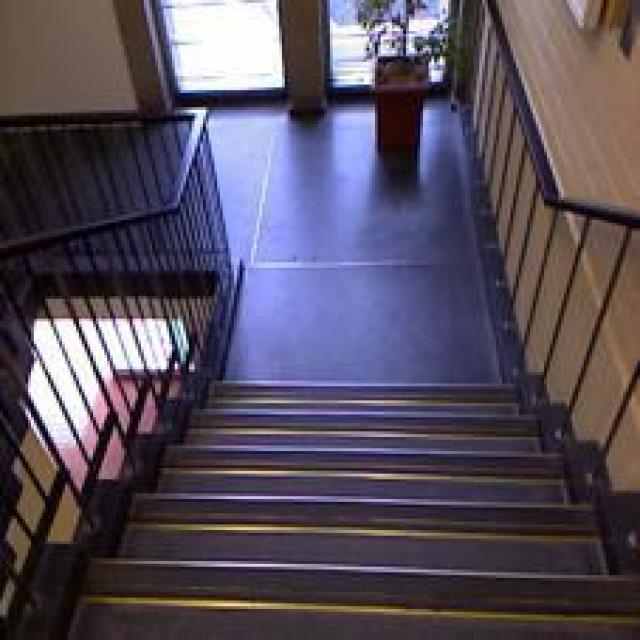downstair: (106, 475, 591, 633)
